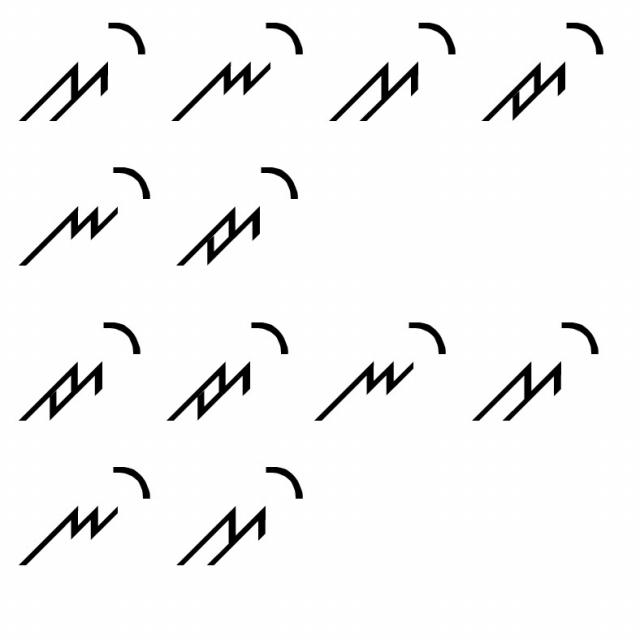jay: (170, 154, 303, 273), (13, 311, 144, 424), (480, 12, 605, 130), (168, 321, 292, 428)
nyay: (309, 316, 455, 436), (170, 18, 308, 128), (21, 460, 155, 572), (13, 162, 153, 268)
say: (327, 6, 467, 133), (175, 454, 311, 573), (17, 10, 151, 130), (467, 308, 601, 426)
